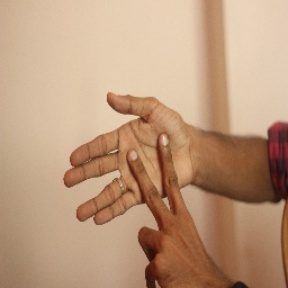N: (60, 89, 208, 266)
